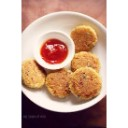cutlet: (70, 67, 102, 99), (71, 26, 99, 52), (46, 70, 71, 99), (22, 60, 46, 89), (73, 52, 101, 76)
